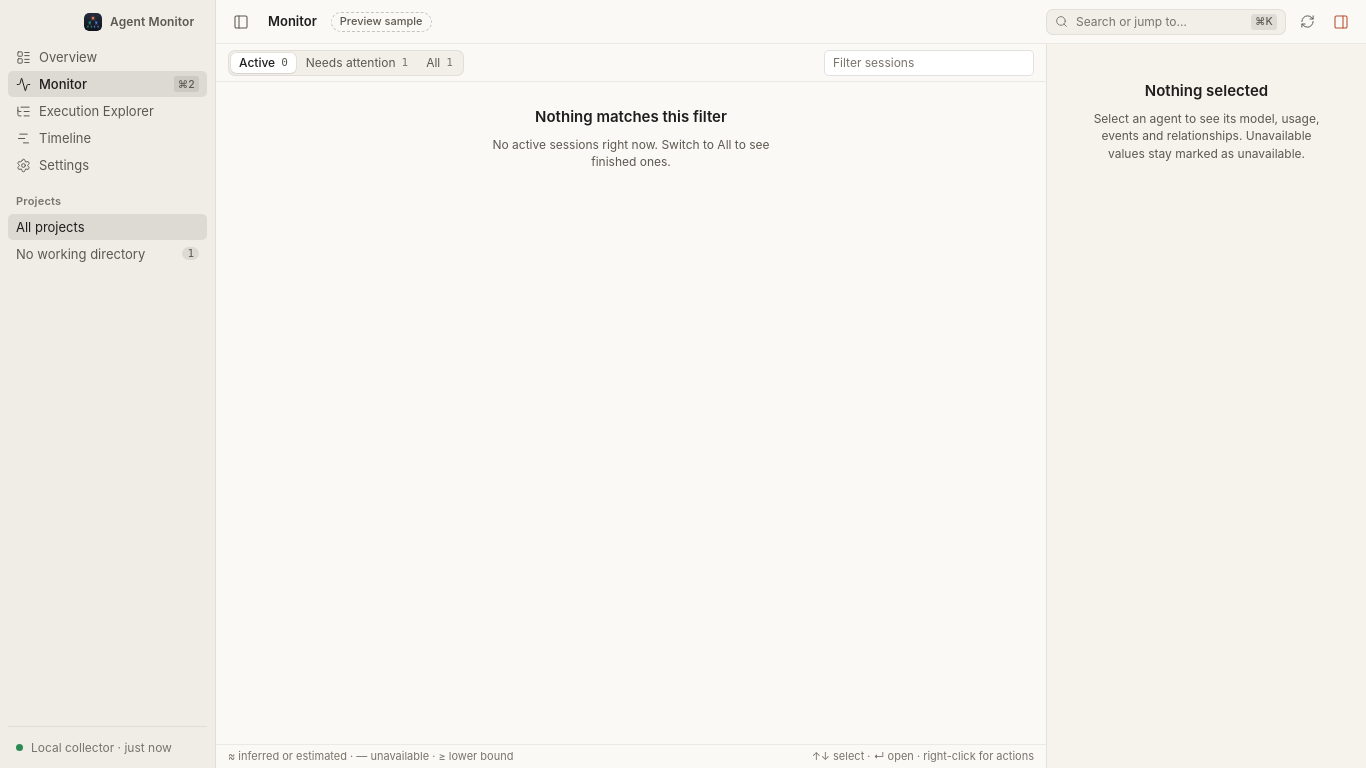
Scenario: App (orchestration explorer) › surfaces an orchestration with an open failure under Needs attention
Expected: the 1st text "1" is shown, [402,56,408,69]
Note: An open failure is not "active" work: the row is under Needs attention, not Active.
Click the radio button labelled "Needs attention 1". click: point(357, 62)
box: [298,52,416,72]
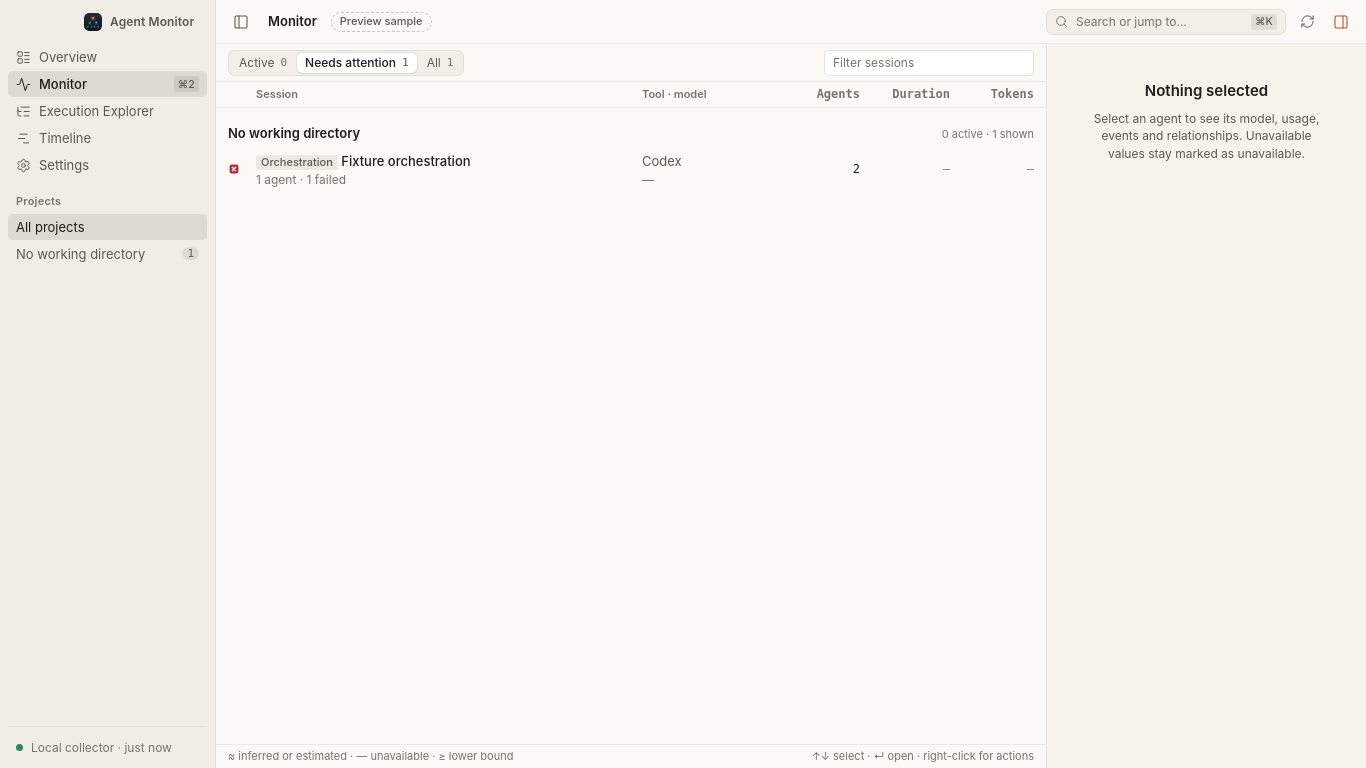
Result: the text "Fixture orchestration" is shown at [341,153,471,169]
Result: the row with class "session" is shown at [216,149,1046,192]
Result: the text "1 agent · 1 failed" is shown at [256,172,346,187]
